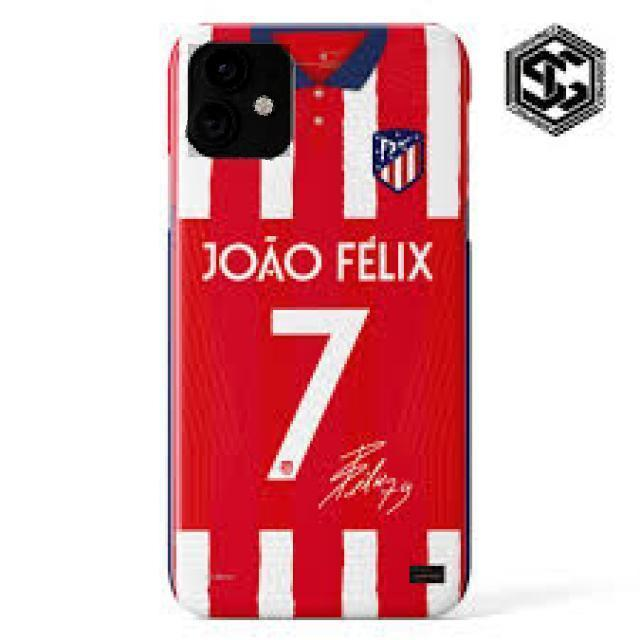phone: (163, 20, 472, 619)
